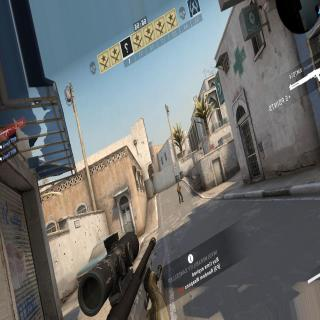T-Body: (177, 183, 183, 203)
T-Head: (178, 183, 179, 186)
